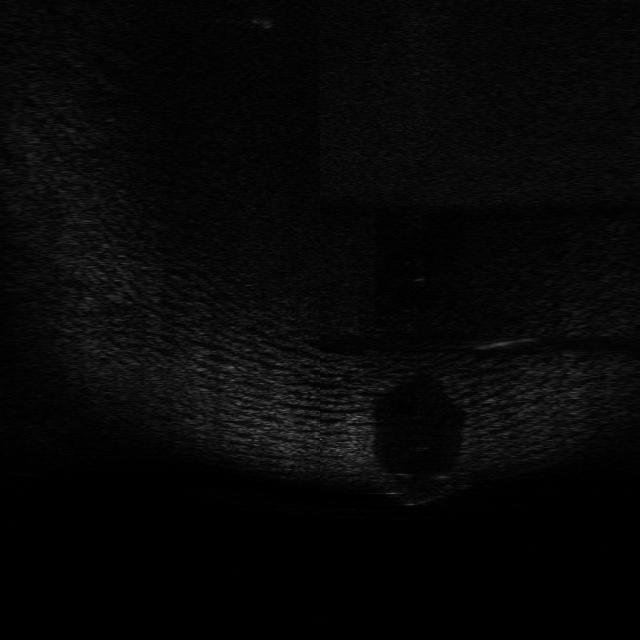cube: (378, 468, 461, 504)
